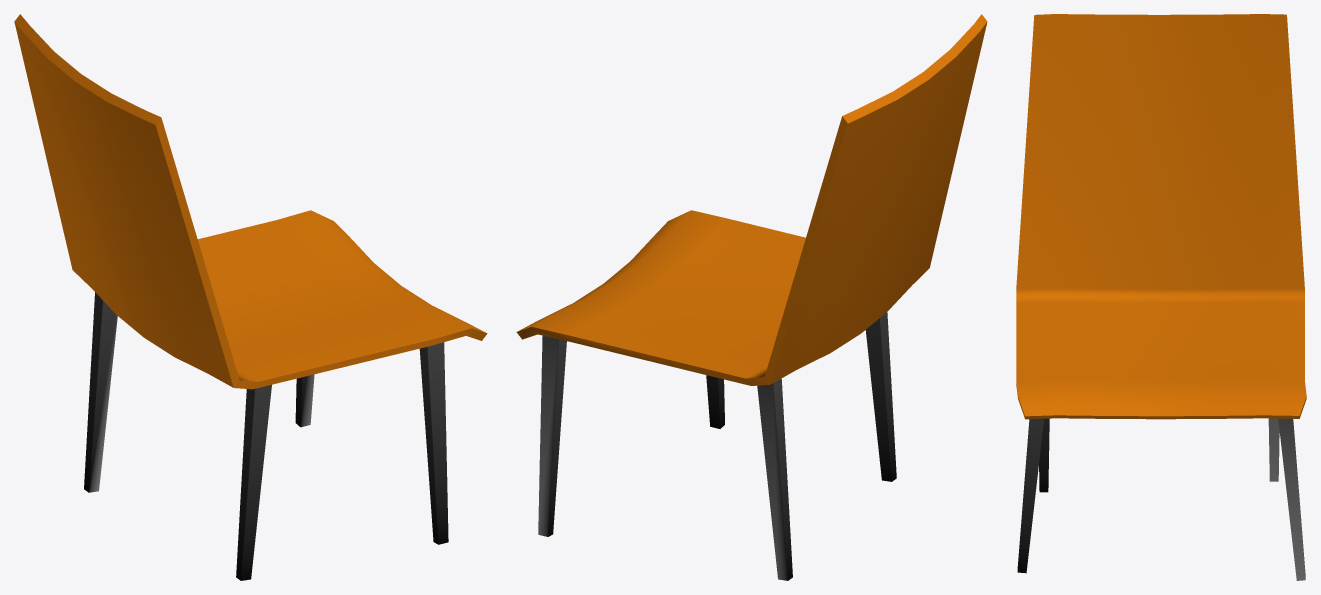
Rendered from chair.fbx.
3 renders of one model, left to right at view 1: azimuth 30°, elevation 25°; view 2: azimuth 150°, elevation 25°; view 3: azimuth 270°, elevation 25°, orthographic. The views are drawn at different scales.
Visible parts, largest first — view 1: pPlane16; view 2: pPlane16; view 3: pPlane16.
Boxes of the visible parts, box(x1,y1,x2,y2) form: pPlane16: box(14, 14, 487, 580); pPlane16: box(516, 14, 987, 580); pPlane16: box(1016, 14, 1306, 580).
Size of the model in its own units: 3.66 by 5.05 by 3.04.
